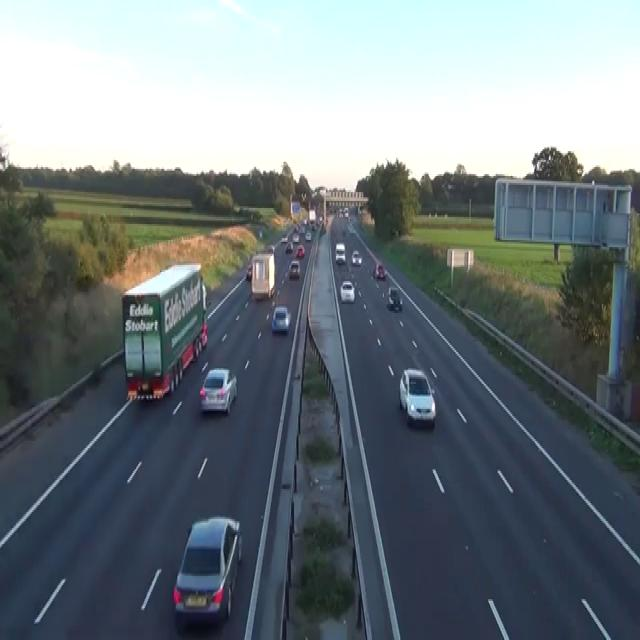Car: (172, 516, 242, 626), (399, 368, 436, 427), (199, 366, 237, 414), (271, 304, 291, 332), (387, 285, 402, 311), (340, 279, 355, 302), (288, 260, 300, 279), (374, 261, 386, 279), (335, 242, 345, 263), (200, 322, 207, 348), (351, 249, 362, 265), (441, 180, 455, 190), (202, 281, 207, 309), (338, 206, 349, 217), (296, 245, 304, 258), (246, 263, 252, 279), (285, 242, 293, 252), (347, 224, 354, 235), (320, 224, 326, 235), (292, 233, 299, 242), (310, 220, 316, 230), (305, 231, 311, 240), (281, 234, 287, 243), (268, 244, 274, 252), (298, 226, 304, 234), (318, 215, 323, 224), (338, 208, 343, 217), (294, 222, 299, 231), (344, 206, 348, 217), (303, 218, 308, 226), (341, 226, 345, 234), (259, 230, 262, 238)
Truck: (121, 261, 208, 402), (251, 249, 275, 299), (309, 208, 316, 228)
